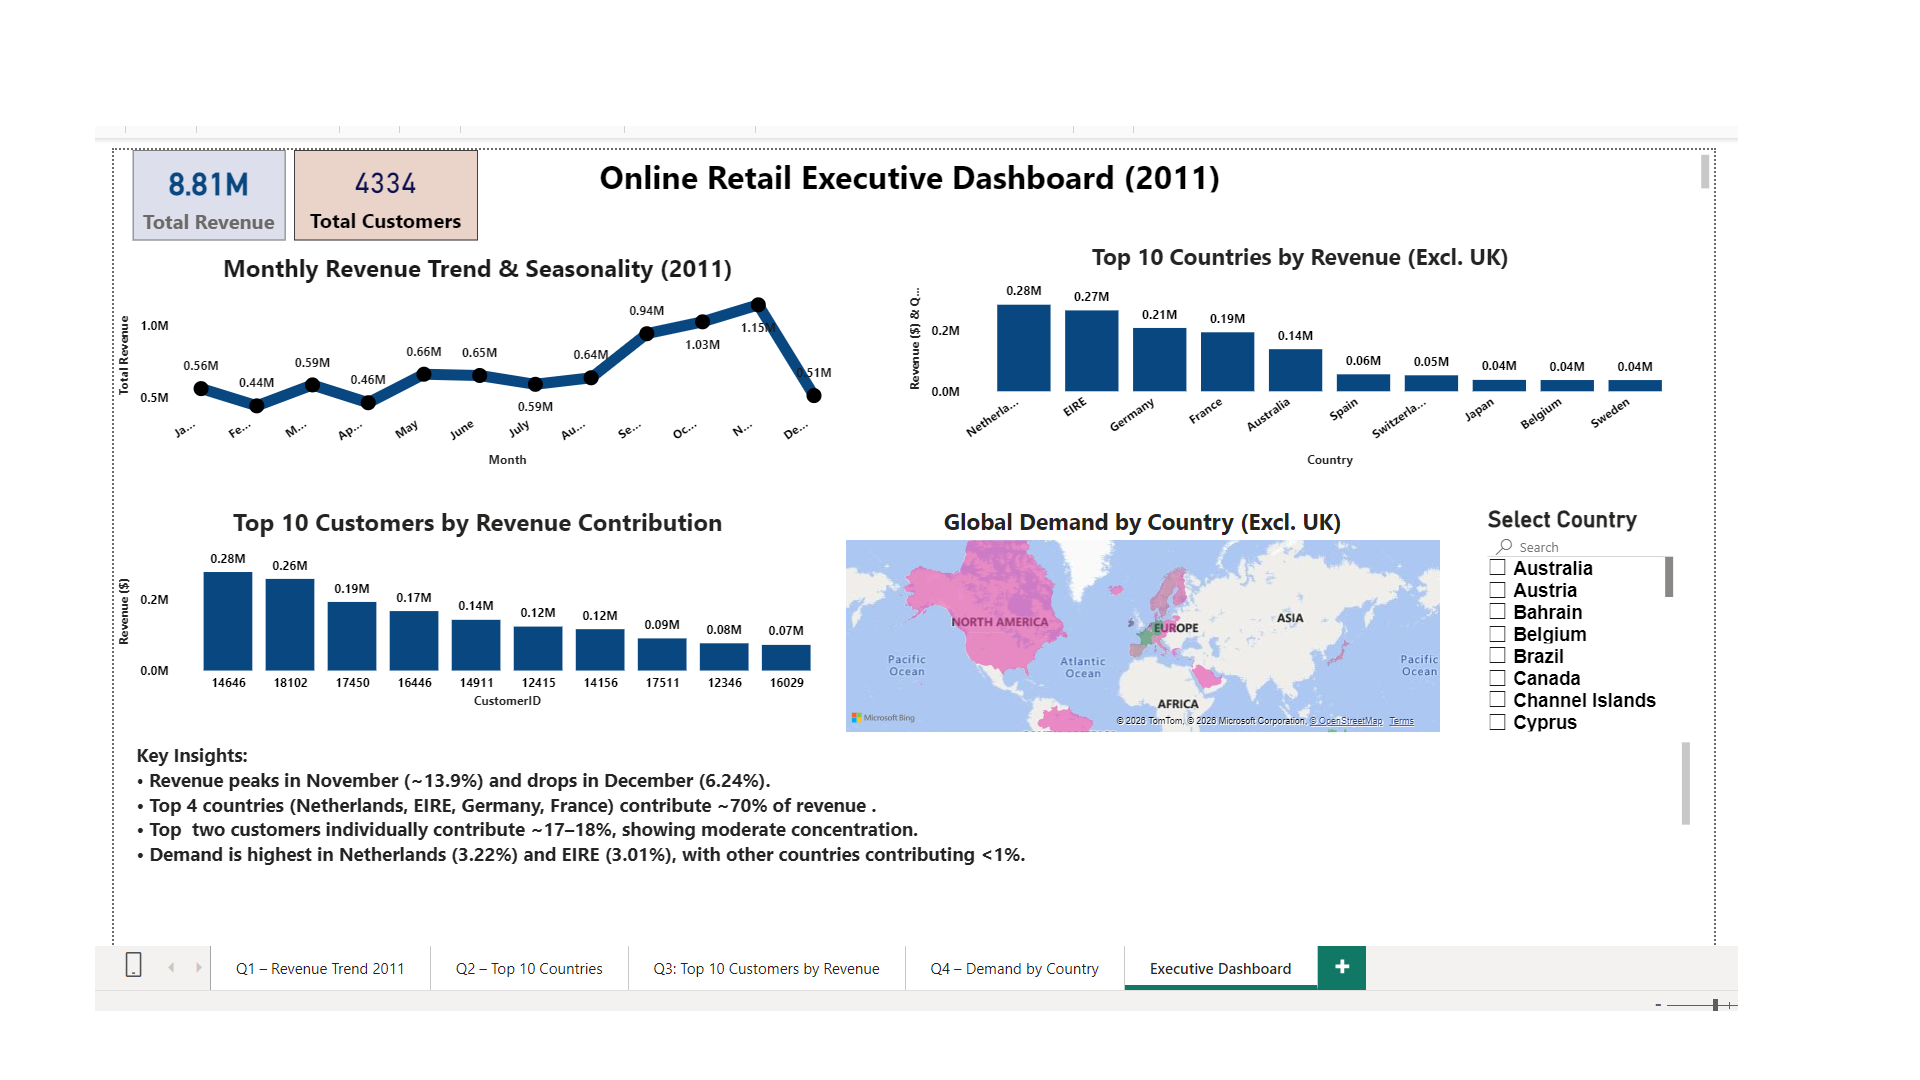

This screenshot's page, from the dashboard's own definition file:
{"tool":"powerbi","page":{"name":"Executive Dashboard","canvas":[1600,1600],"ordinal":4},"visuals":[{"type":"filledMap","title":"Global Demand by Country (Excl. UK)","fields":{"Category":["Online Retail.Country"]},"box":[727.5,355,602.5,232.5],"z":0},{"type":"textbox","box":[17.5,587.5,1563.8,136.2],"z":1000},{"type":"lineChart","title":"Monthly Revenue Trend & Seasonality (2011)","fields":{"Category":["Online Retail.InvoiceDate.Variation.Date Hierarchy.Year","Online Retail.InvoiceDate.Variation.Date Hierarchy.Quarter","Online Retail.InvoiceDate.Variation.Date Hierarchy.Month","Online Retail.InvoiceDate.Variation.Date Hierarchy.Day"],"Y":["Online Retail.Total Revenue"]},"box":[0,101.2,727.5,221.2],"z":2000},{"type":"clusteredColumnChart","title":"Top 10 Countries by Revenue (Excl. UK)","fields":{"Category":["Online Retail.Country"],"Y":["Online Retail.Total Revenue"]},"box":[791.2,90,790,232.5],"z":3000},{"type":"clusteredColumnChart","title":"Top 10 Customers by Revenue Contribution","fields":{"Category":["Online Retail.CustomerID"],"Y":["Online Retail.Total Revenue"]},"box":[0,355,727.5,208.8],"z":4000},{"type":"listSlicer","title":"Select Country","fields":{"Values":["Online Retail.Country"]},"box":[1368.8,355,195,232.5],"z":5000},{"type":"textbox","box":[0,0,1600,47.5],"z":6000},{"type":"card","fields":{"Values":["Online Retail.Total Revenue"]},"box":[18.8,0,152.5,90],"z":7000},{"type":"card","fields":{"Values":["Online Retail.Total Customers"]},"box":[180,0,183.8,90],"z":9001}]}

Visuals, with their boxes on the page's 1600x1600 design canvas (x1, y1, x2, y2). These are canvas units, not pixel positions in the 1920x1080 screenshot, which may show the page scaled, cropped or inside an application window:
"Global Demand by Country (Excl. UK)" filledMap: l=728, t=355, r=1330, b=588
textbox: l=18, t=588, r=1581, b=724
"Monthly Revenue Trend & Seasonality (2011)" lineChart: l=0, t=101, r=728, b=322
"Top 10 Countries by Revenue (Excl. UK)" clusteredColumnChart: l=791, t=90, r=1581, b=322
"Top 10 Customers by Revenue Contribution" clusteredColumnChart: l=0, t=355, r=728, b=564
"Select Country" listSlicer: l=1369, t=355, r=1564, b=588
textbox: l=0, t=0, r=1600, b=48
card - Online Retail.Total Revenue: l=19, t=0, r=171, b=90
card - Online Retail.Total Customers: l=180, t=0, r=364, b=90
